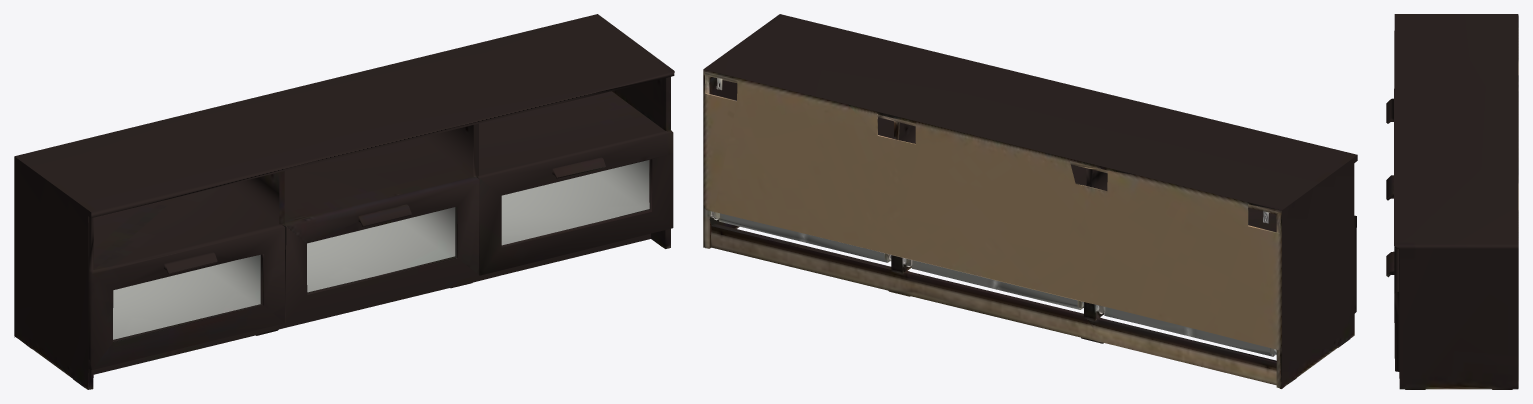
The picture shows the model from 3 angles, left to right: view 1: azimuth 30°, elevation 25°; view 2: azimuth 150°, elevation 25°; view 3: azimuth 270°, elevation 25°; orthographic projection. The views are drawn at different scales.
Parts seen in each view (by area): view 1: ProcessedMeshNode; view 2: ProcessedMeshNode; view 3: ProcessedMeshNode.
Part boxes in pixels (<box>): ProcessedMeshNode: <box>14,14,674,389</box>; ProcessedMeshNode: <box>703,14,1357,388</box>; ProcessedMeshNode: <box>1386,14,1518,389</box>.
Size of the model in its own units: 1.8 by 0.5359 by 0.439.
Materials: 2 (2 with a texture image).
